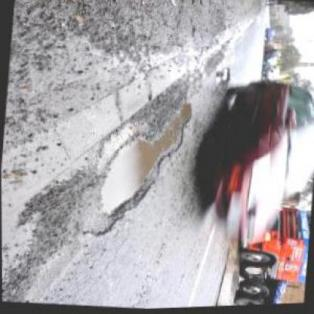Hueco: (95, 94, 197, 228), (214, 67, 232, 88)
